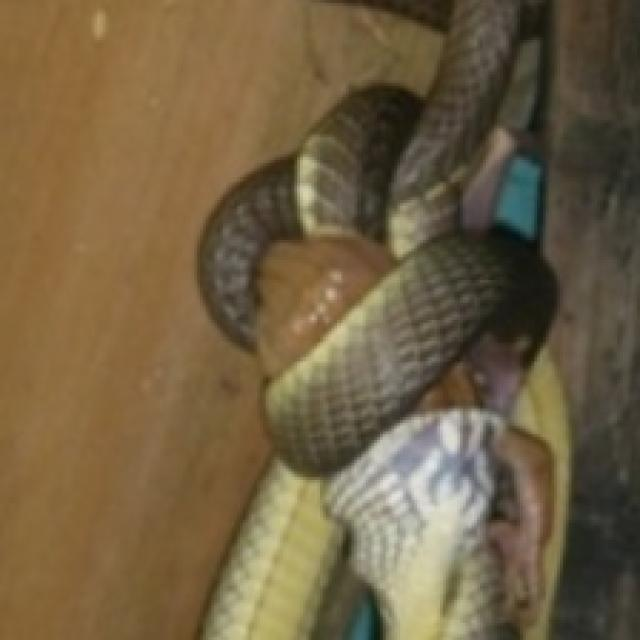paradise tree snake: (197, 0, 566, 637)
